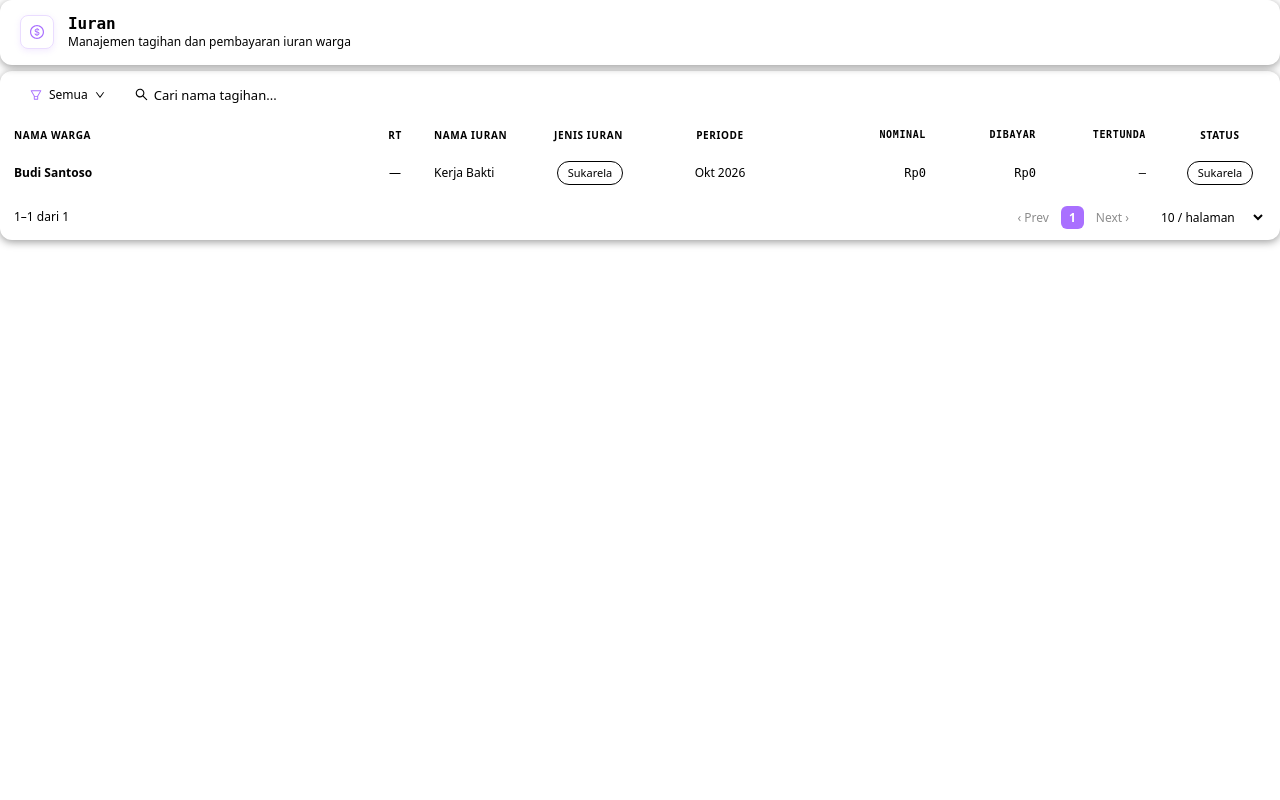
Test: IuranList - Voluntary Rp0 Bills › clicking a bill row opens IuranDetail (not DueDetailModal)
Expected: the text "Budi Santoso" is shown, [14,164,92,181]
Click the button that starts with "Budi Santoso".
click(53, 172)  # box [0,151,1279,195]
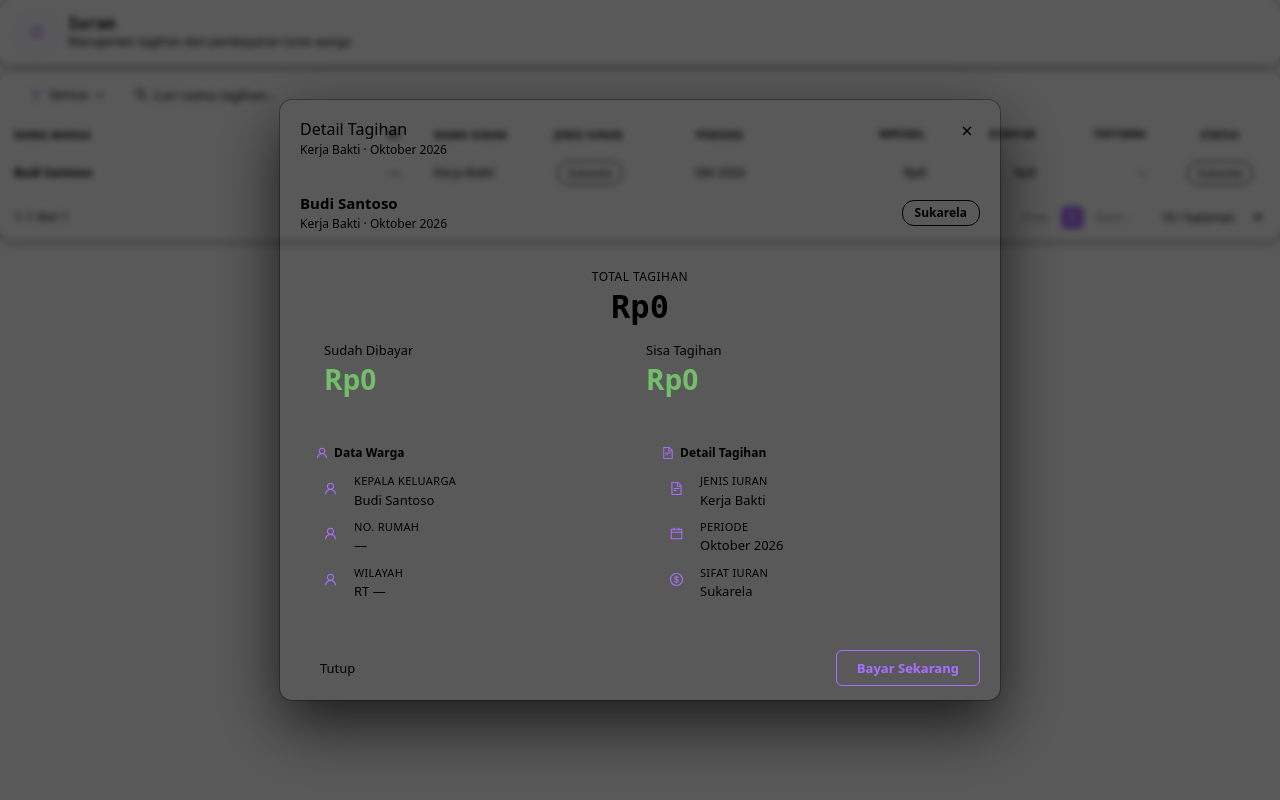
Expected: the dialog is shown
Expected: the dialog shows "Budi Santoso", [300,193,398,213]
